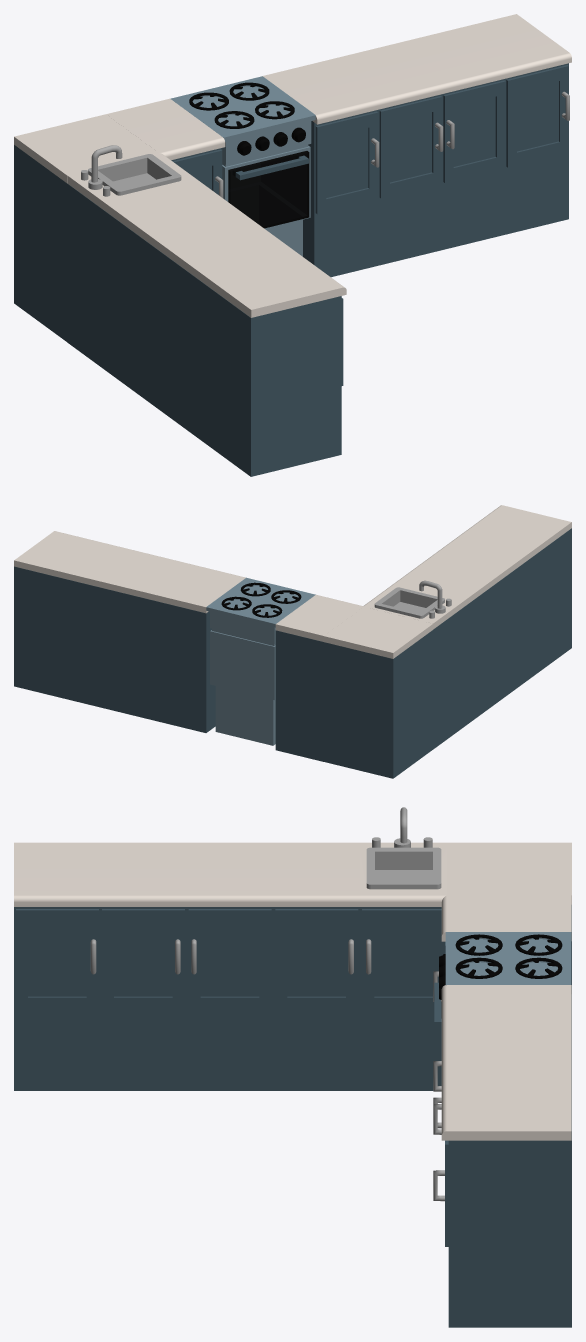
File: kitchen.fbx
The picture shows the model from 3 angles, top to bottom: view 1: azimuth 30°, elevation 25°; view 2: azimuth 150°, elevation 25°; view 3: azimuth 270°, elevation 25°; orthographic projection. The views are drawn at different scales.
Visible parts, largest first — view 1: polySurface101; view 2: polySurface101; view 3: polySurface101.
Boxes of the visible parts, x1=… form: polySurface101: x1=14, y1=14, x2=571, y2=476; polySurface101: x1=14, y1=505, x2=571, y2=778; polySurface101: x1=14, y1=807, x2=571, y2=1327.
Bounding box in the file's own units: 24.54 × 9.5 × 20.04.
